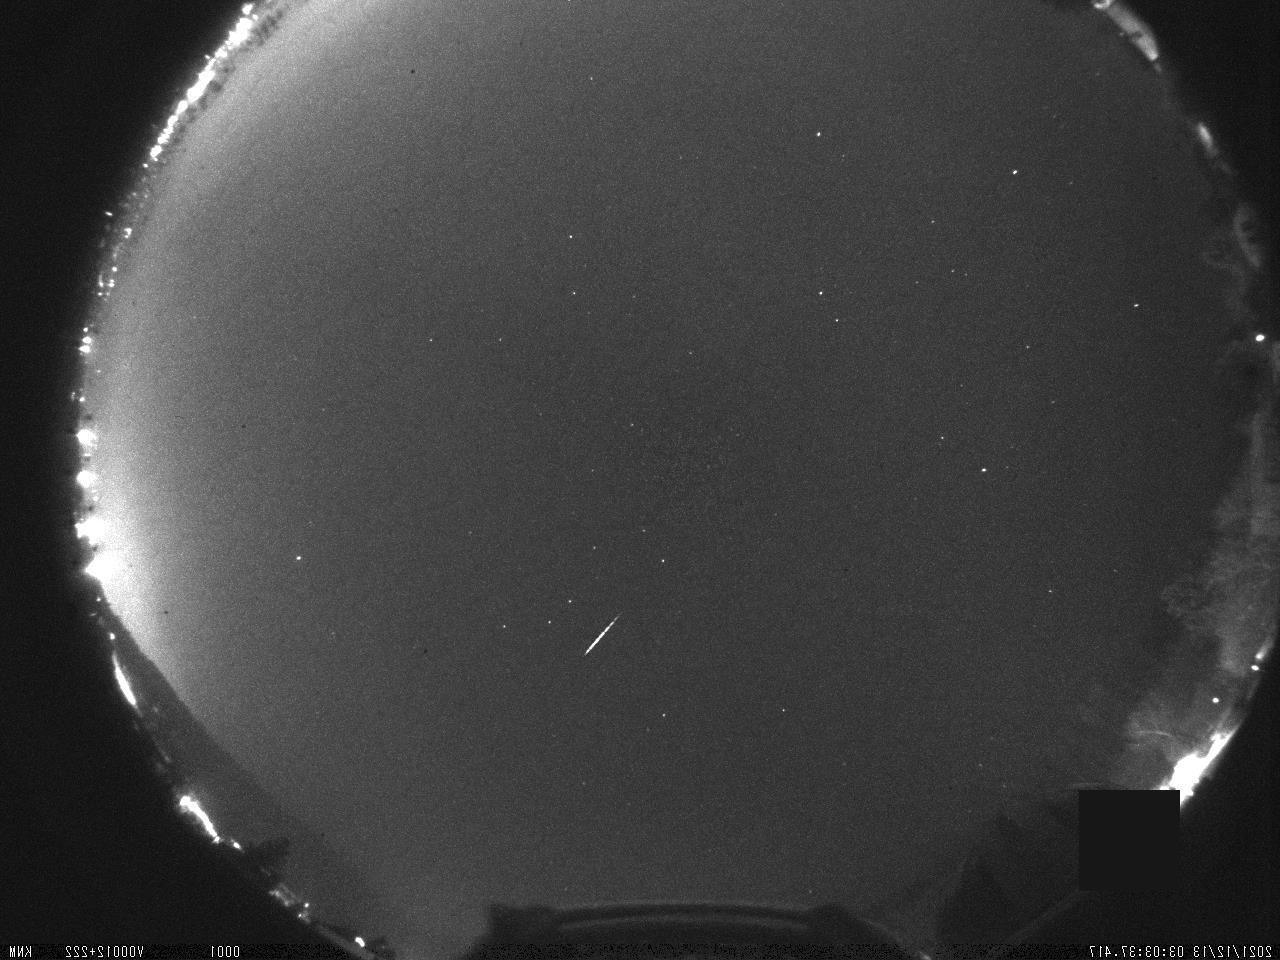meteor: (579, 606, 631, 670)
